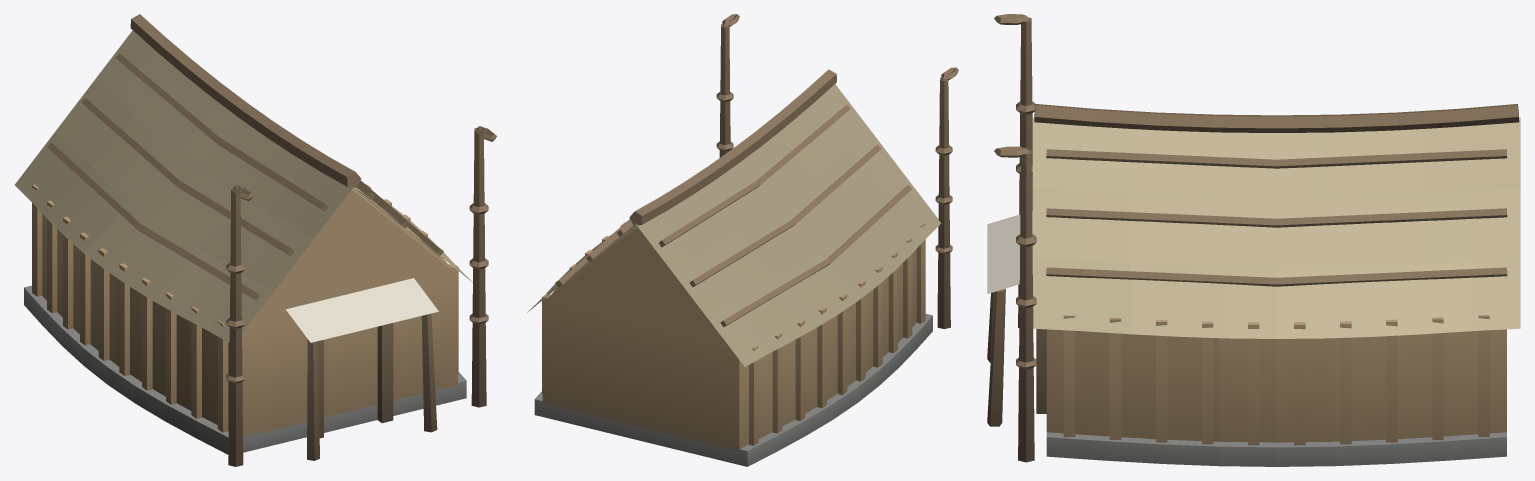
File: berk_house_b.glb
The picture shows the model from 3 angles, left to right: view 1: azimuth 30°, elevation 25°; view 2: azimuth 150°, elevation 25°; view 3: azimuth 270°, elevation 25°; orthographic projection. The views are drawn at different scales.
Parts seen in each view (by area): view 1: berk_house_b; view 2: berk_house_b; view 3: berk_house_b.
Part boxes in pixels (x1,y1,x2,y2): berk_house_b: [15, 14, 497, 466]; berk_house_b: [527, 14, 958, 466]; berk_house_b: [987, 14, 1520, 466].
Bounding box in the file's own units: 5.04 × 4.76 × 7.42.
